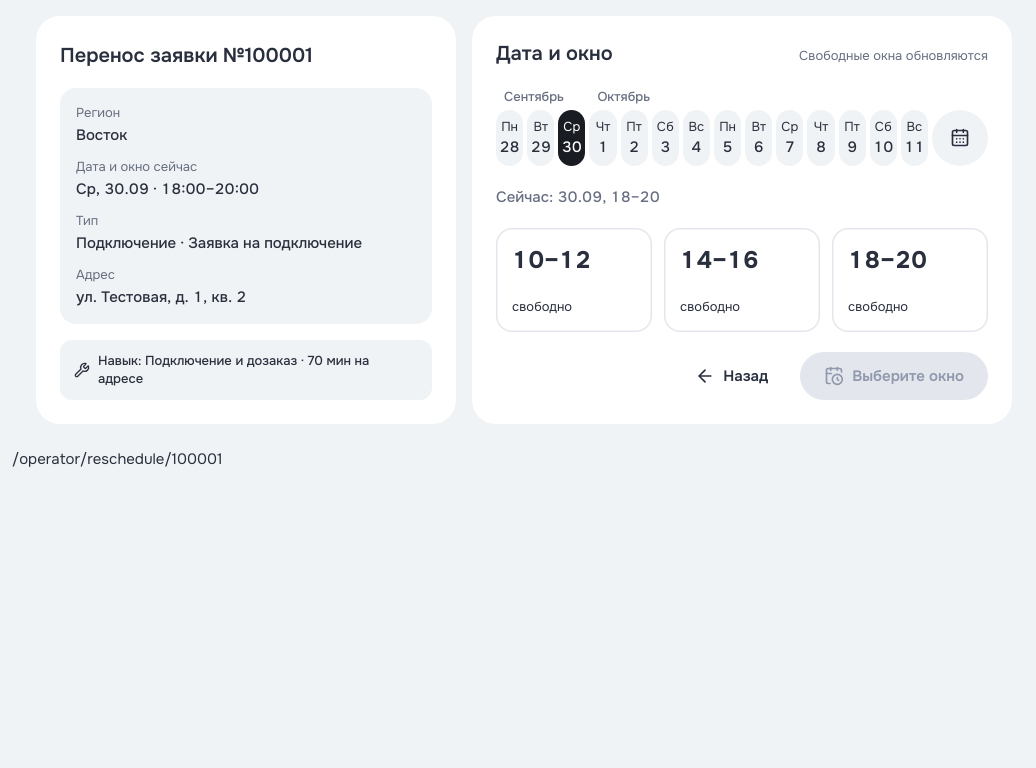
Scenario: O-02.1 перенос › SLOT_TAKEN — плашка, выбор снят
What coordinates should you click on to do the following:
click the button "14–16 свободно"
I would click on:
 (742, 280)
Its box is [664,228,820,332].
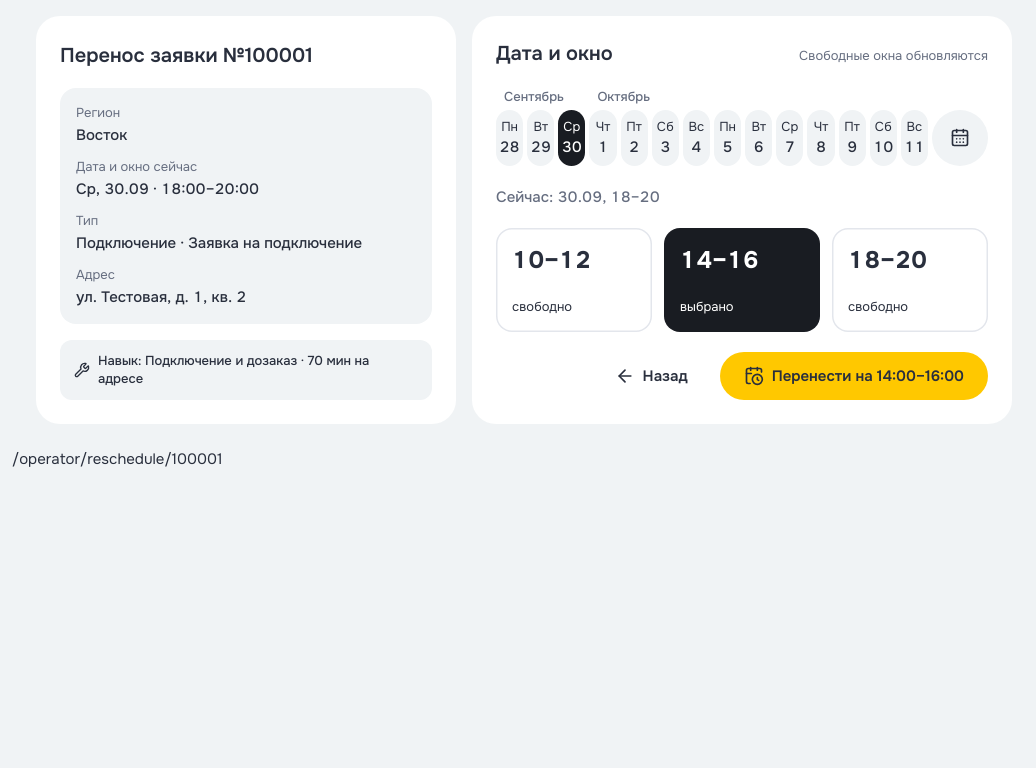
What coordinates should you click on to do the following:
click the button "Перенести на 14:00–16:00"
I would click on:
 (854, 376)
Its box is [720,352,988,400].
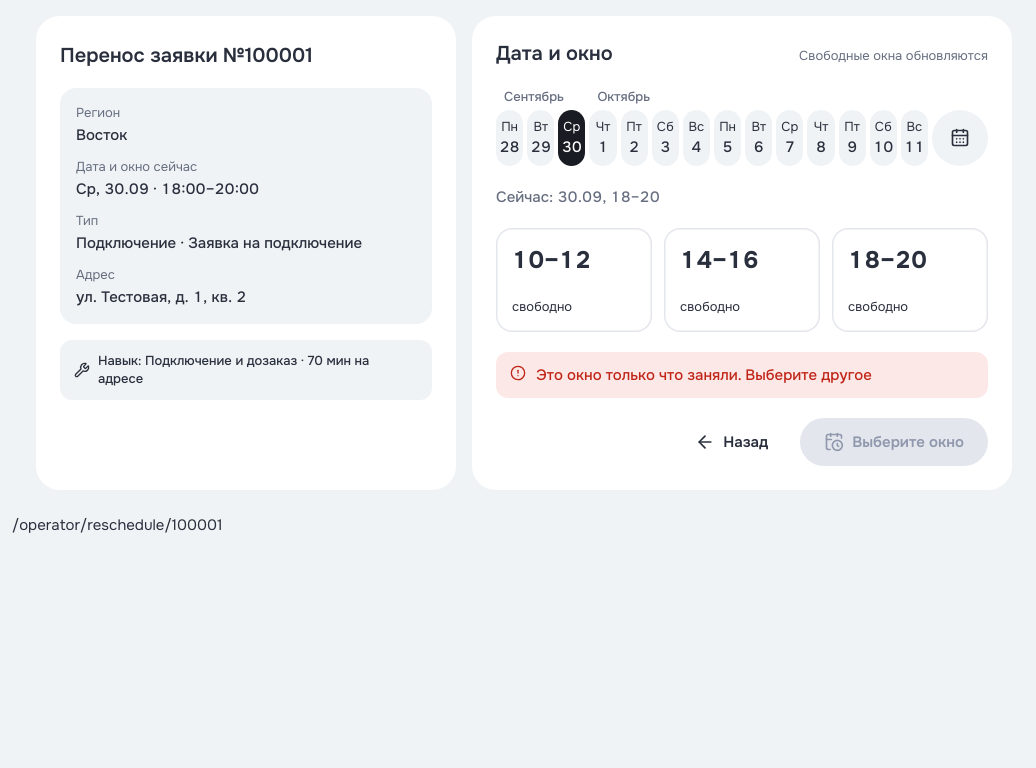
Expected: the text with test id "location" reads "/operator/reschedule/100001", [12,515,222,535]
Result: the text "Это окно только что заняли. Выберите другое" is shown at [536,365,872,385]
Result: the button "Выберите окно" is disabled at [800,418,988,466]
